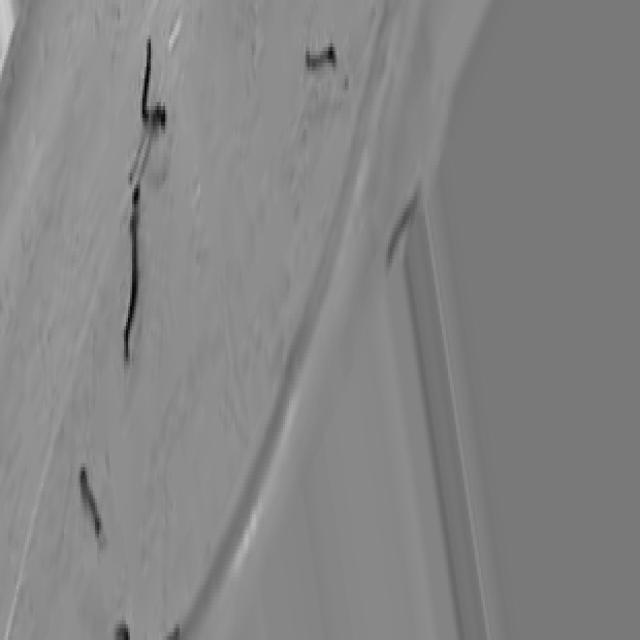larvas: (122, 180, 144, 357), (141, 46, 168, 126), (81, 458, 102, 538), (127, 120, 148, 182), (306, 46, 338, 68)
